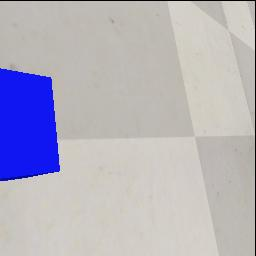box: (0, 67, 61, 181)
